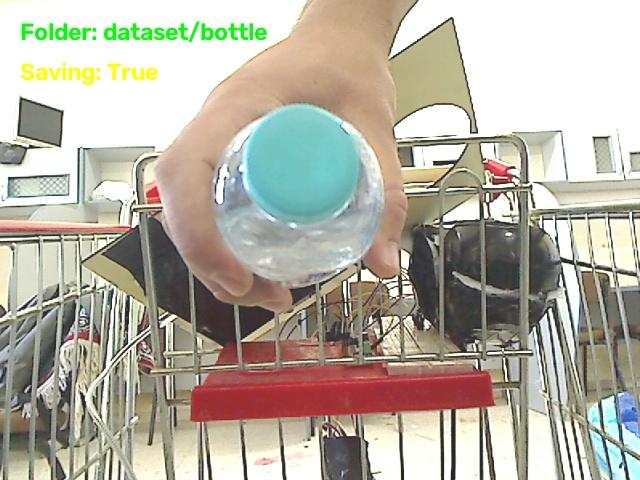Bottle: (215, 105, 383, 287)
can: (210, 109, 388, 288)
